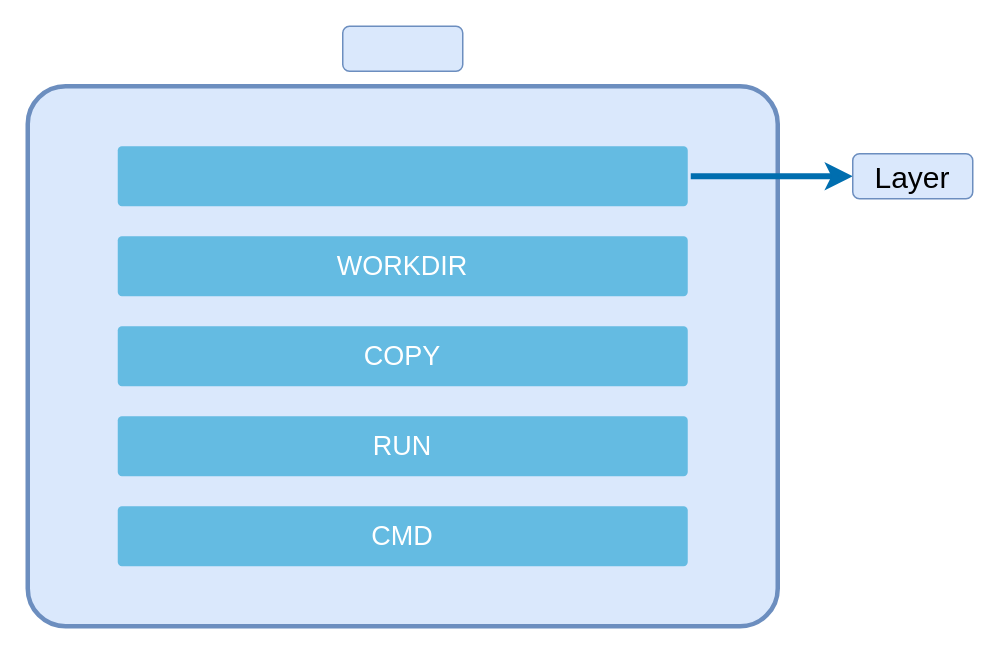
This 999x654 diagram has some shape labels left out. Each missing label, with the centre of its shape:
FROM: pixel 402 176
Image: pixel 402 48
